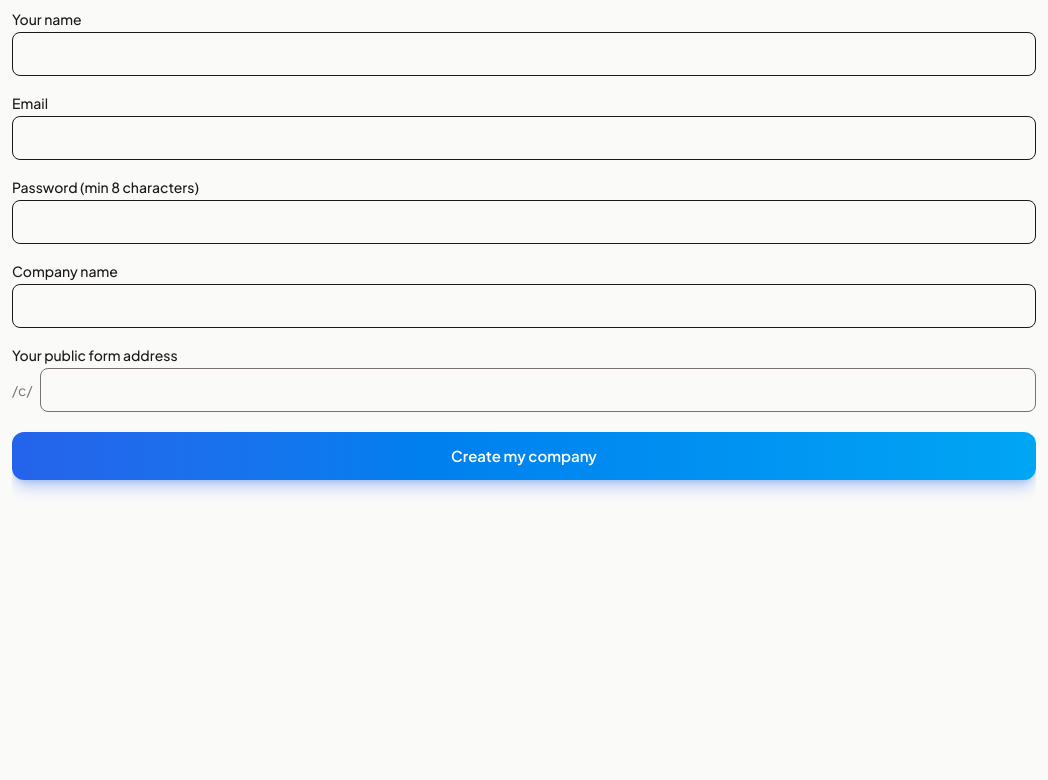
SignupForm › shows the server error and re-enables the button
The width and height of the screenshot is (1048, 780).
Type "Eren" into the field labelled "Your name" at point(524, 54), box [12,32,1036,76]
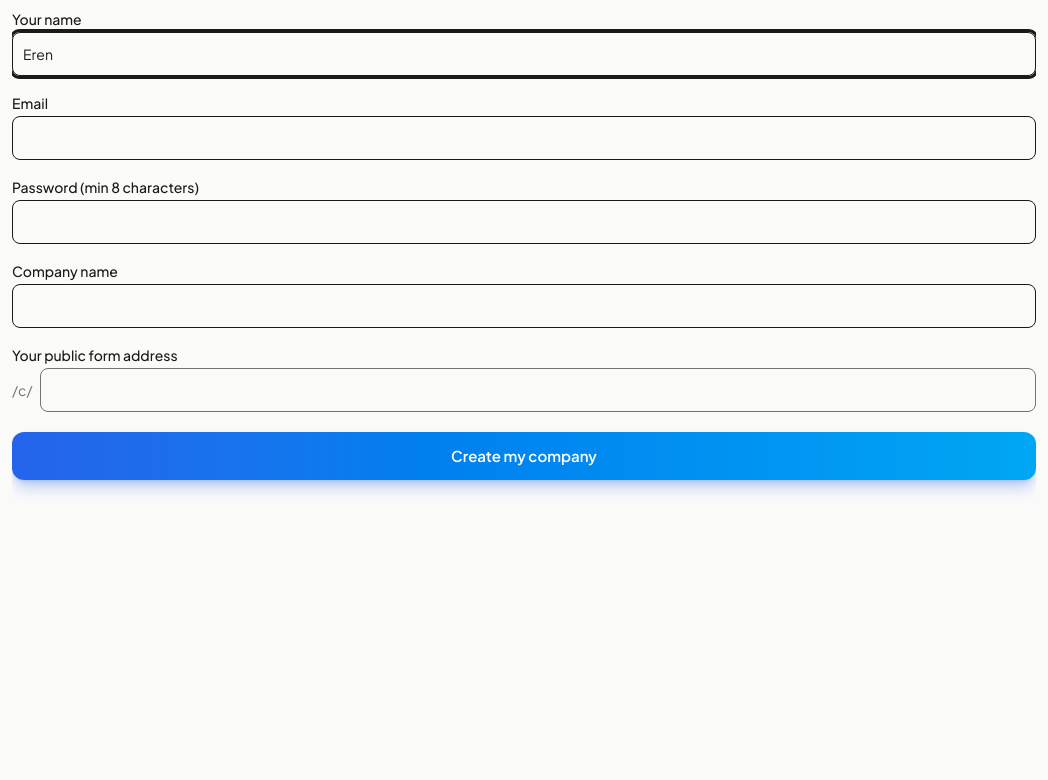
Type "e@x.com" into the field labelled "Email" at point(524, 138), box [12,116,1036,160]
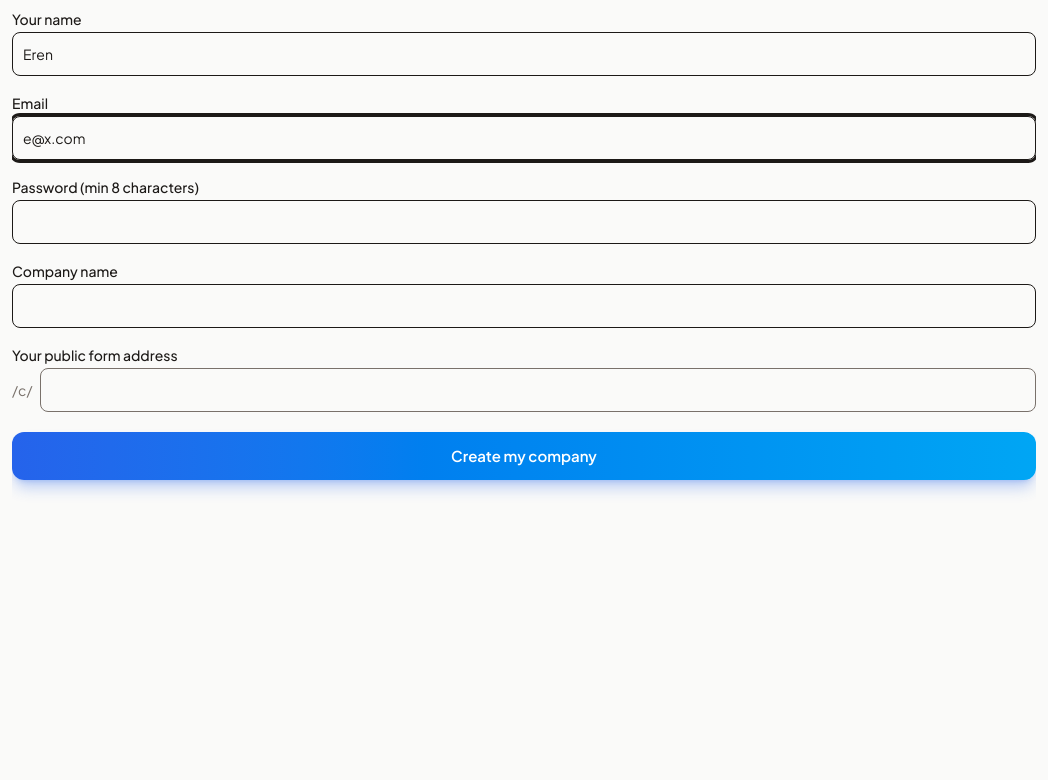
Type "password123" into the password field labelled "Password (min 8 characters)" at point(524, 222), box [12,200,1036,244]
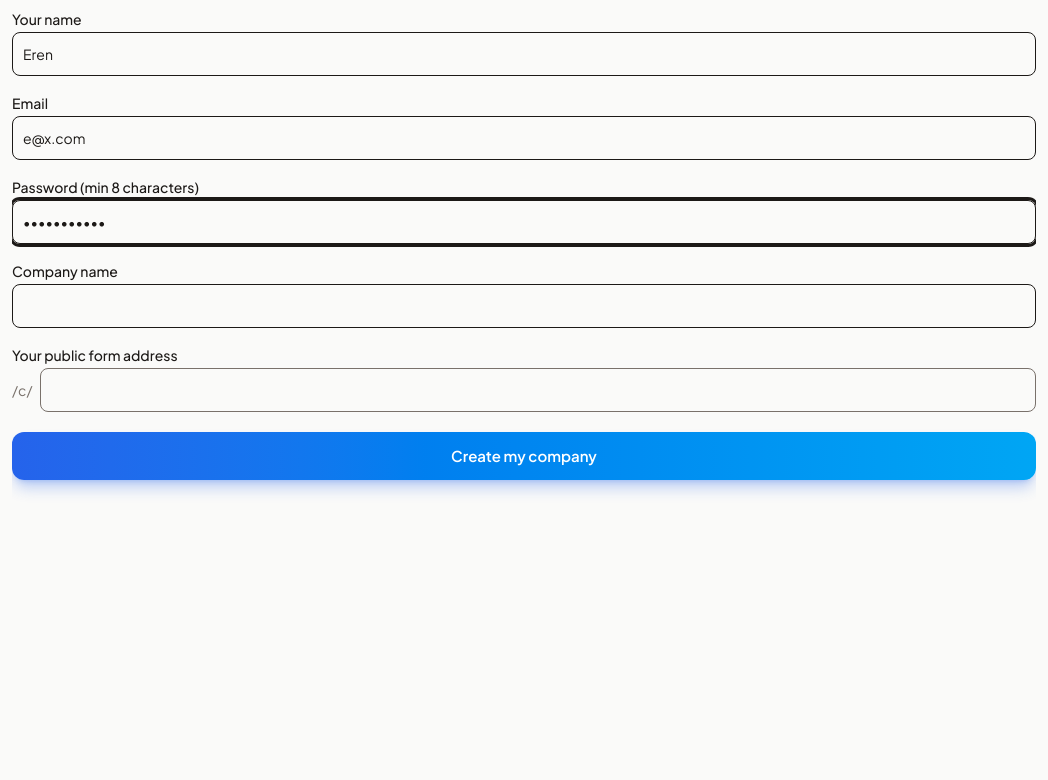
Type "TM Construction" into the field labelled "Company name" at point(524, 306), box [12,284,1036,328]
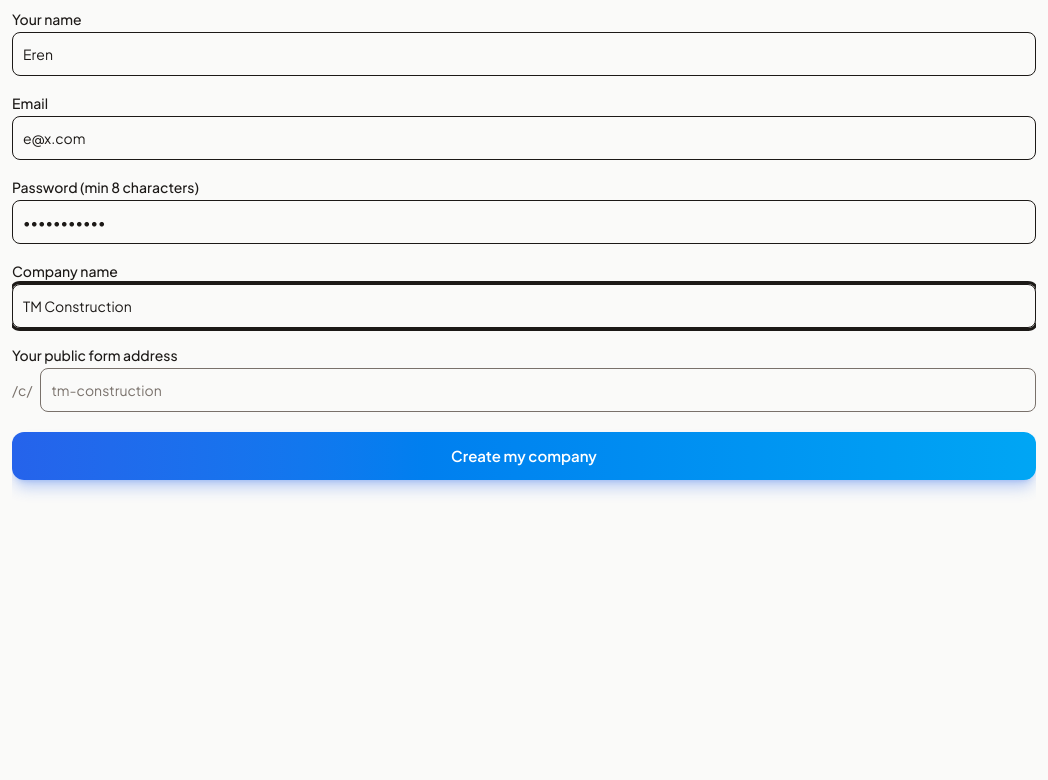
Click the button "Create my company" at point(524, 456), box [12,432,1036,480]
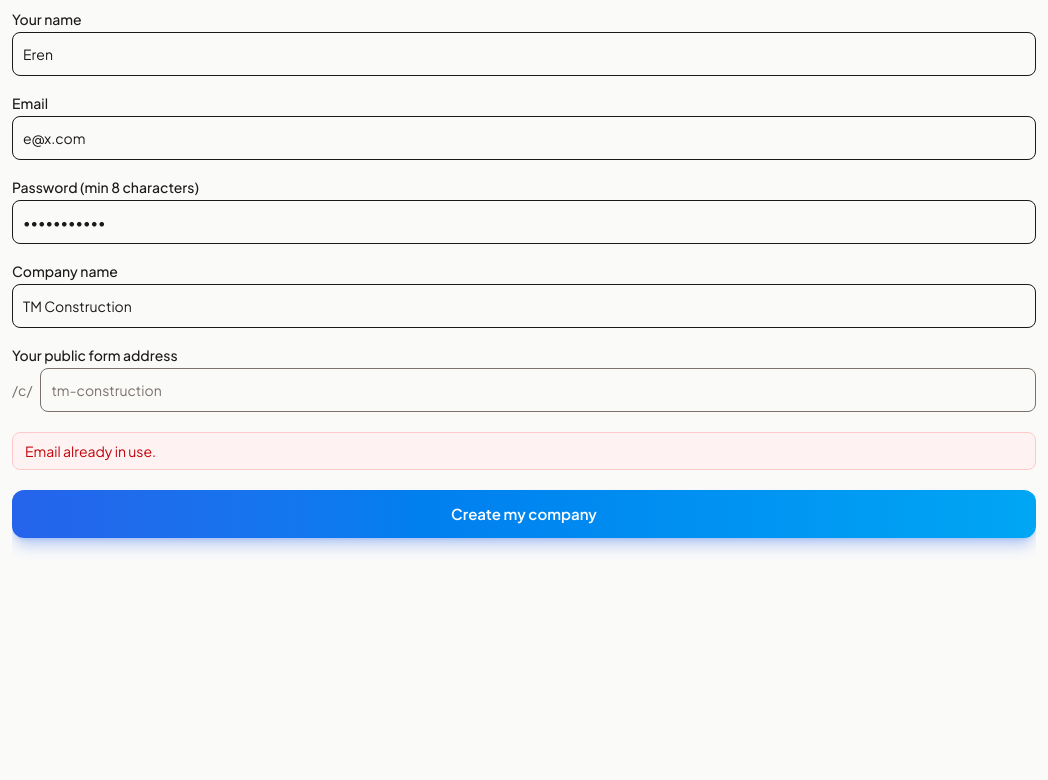
Check: the button "Create my company" is enabled, box [12,490,1036,538]
Check: the message reads "Email already in use.", box [25,442,156,460]
